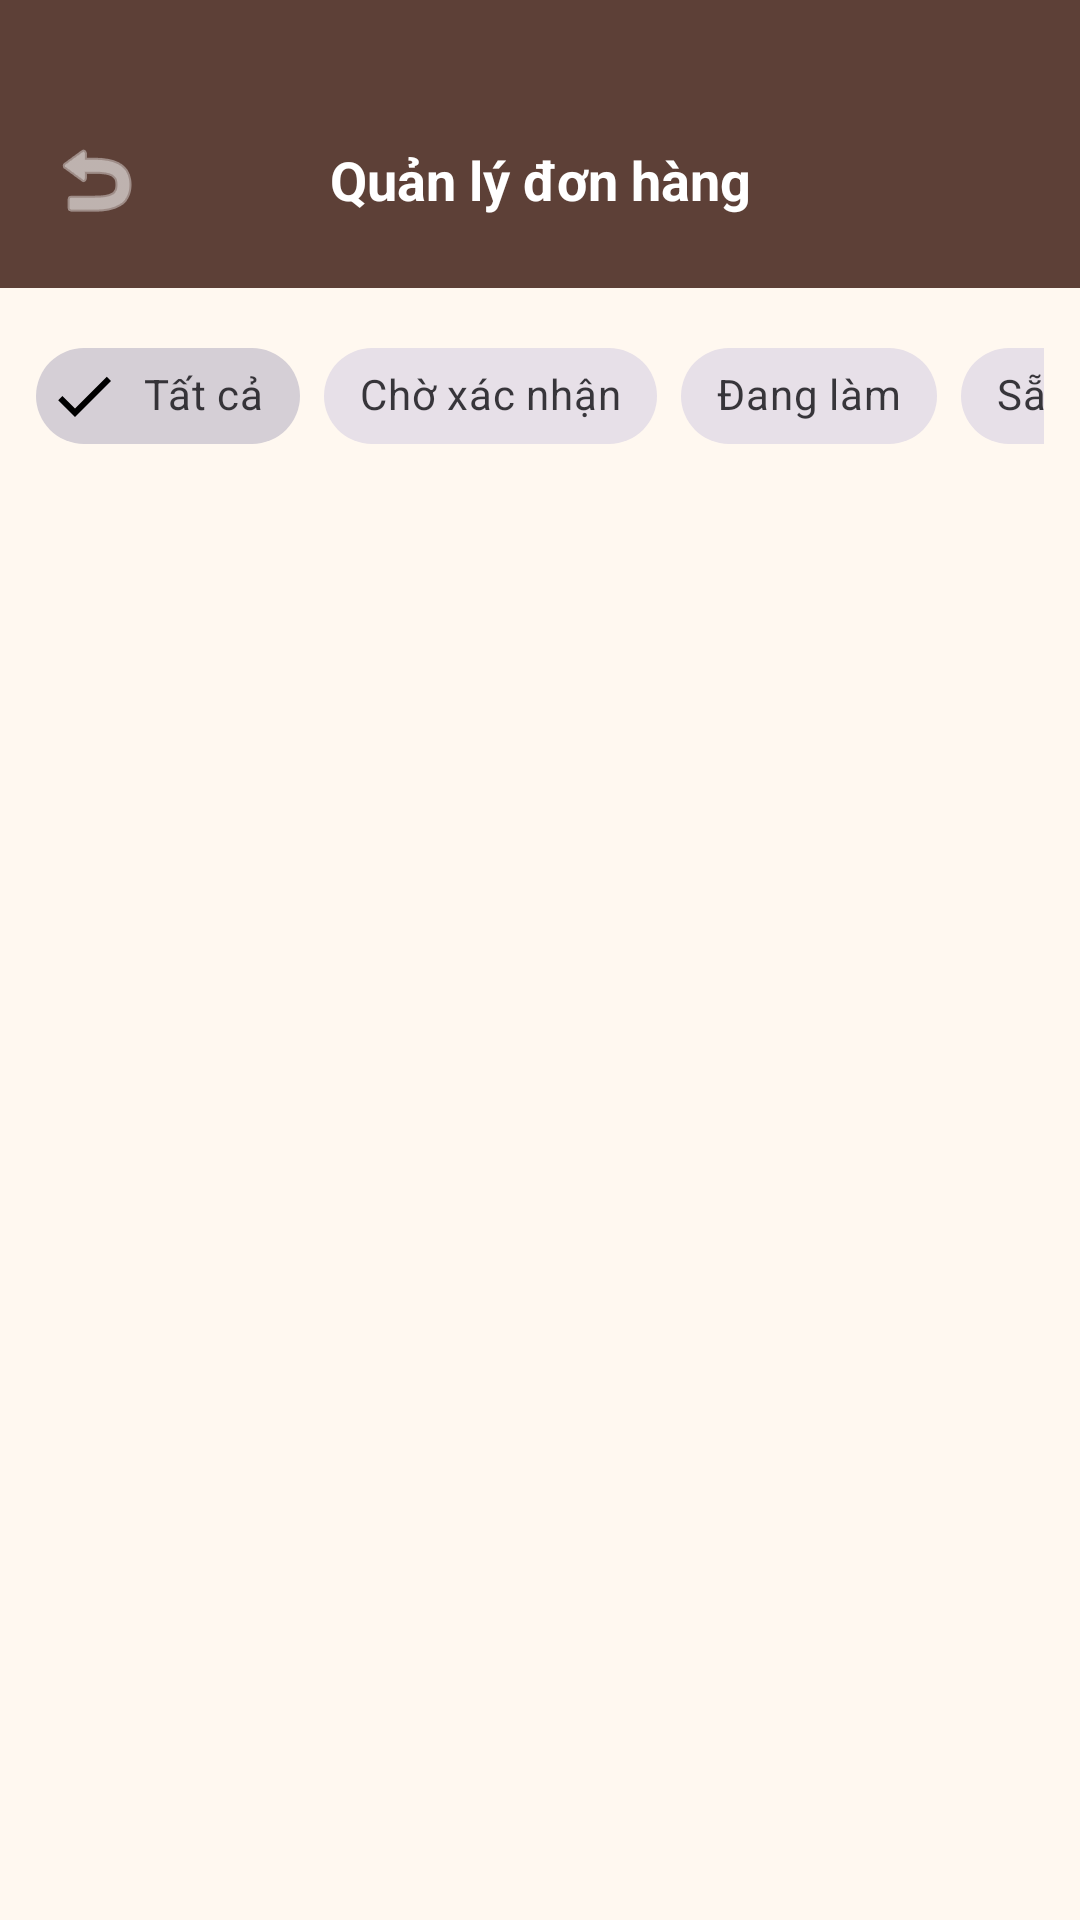

Icon click points for this 1080 x 1920 phone screenshot, format (x,y):
Quay lại: (97,180)
